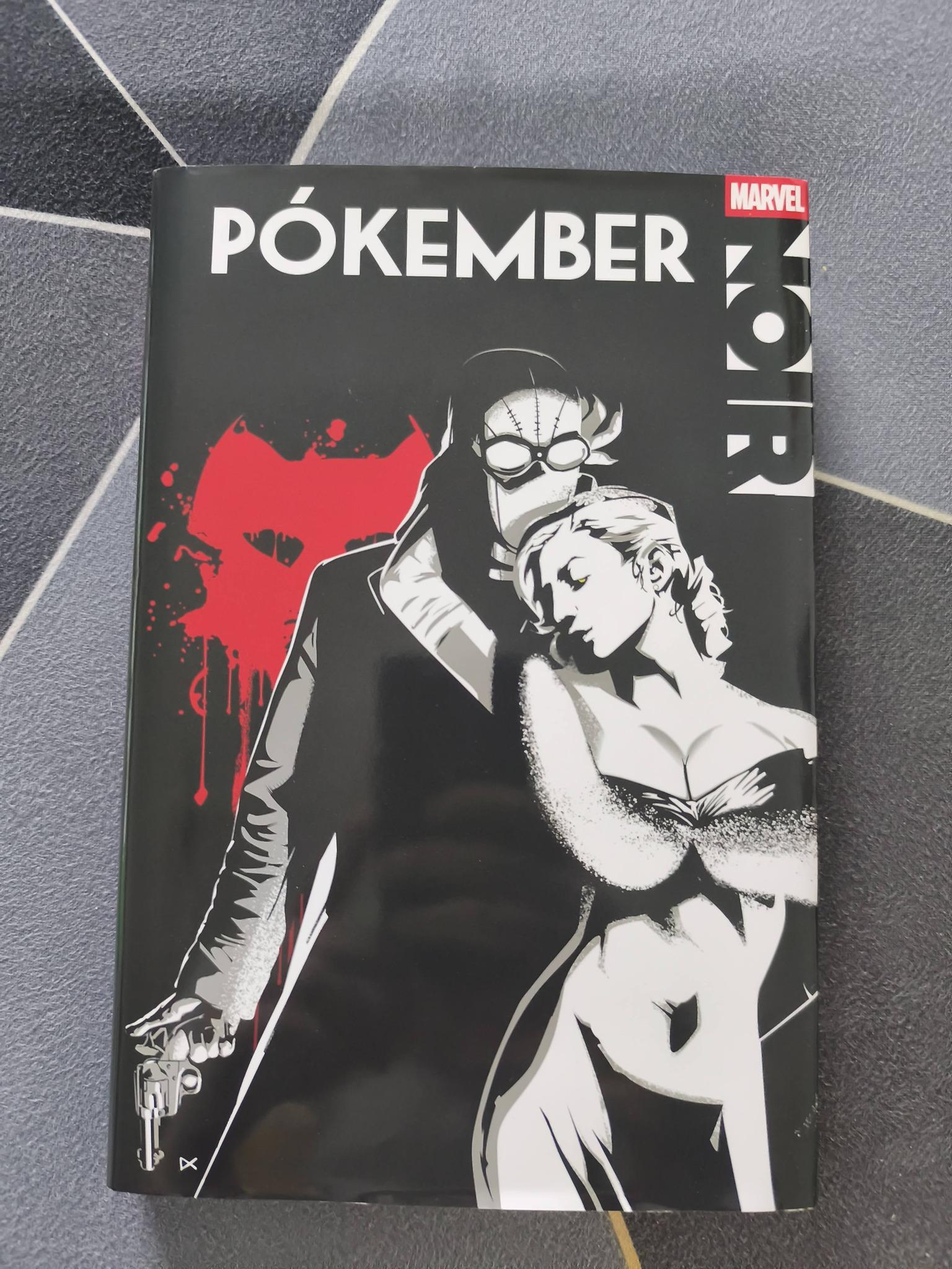comic: (110, 160, 840, 1216)
